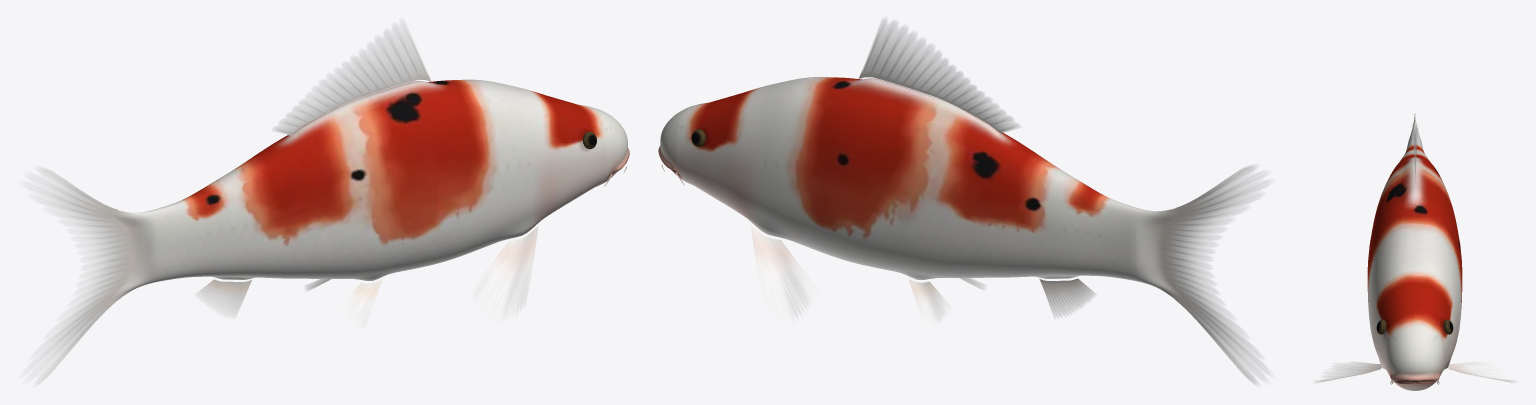
File: koi-movil.glb
3 views of the same model, side by side, from view 1: azimuth 30°, elevation 25°; view 2: azimuth 150°, elevation 25°; view 3: azimuth 270°, elevation 25° (orthographic). The views are drawn at different scales.
Parts seen in each view (by area): view 1: Koi_v3; view 2: Koi_v3; view 3: Koi_v3.
Part boxes in pixels (x1,y1,x2,y2): Koi_v3: [23, 19, 629, 384]; Koi_v3: [658, 19, 1270, 384]; Koi_v3: [1314, 113, 1515, 390].
Bounding box in the file's own units: 1 × 0.4452 × 0.3459.
Materials: 2 (2 with a texture image).
